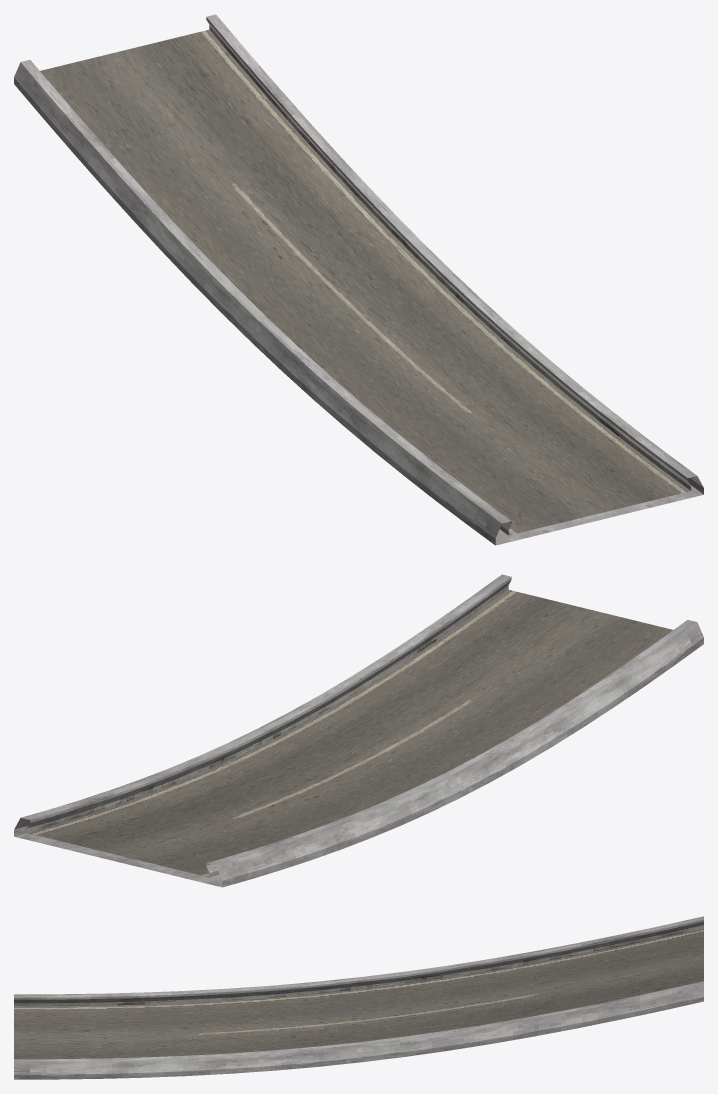
File: straight4.glb
3 views of the same model, one above another, from view 1: azimuth 30°, elevation 25°; view 2: azimuth 150°, elevation 25°; view 3: azimuth 270°, elevation 25° (orthographic). The views are drawn at different scales.
Visible parts, largest first — view 1: road-Straight-Flat-BiSlopeUp-Up2-Center-Size4; view 2: road-Straight-Flat-BiSlopeUp-Up2-Center-Size4; view 3: road-Straight-Flat-BiSlopeUp-Up2-Center-Size4.
Boxes of the visible parts, x1,y1,x2,y2 form: road-Straight-Flat-BiSlopeUp-Up2-Center-Size4: (14, 14, 703, 545); road-Straight-Flat-BiSlopeUp-Up2-Center-Size4: (14, 574, 703, 887); road-Straight-Flat-BiSlopeUp-Up2-Center-Size4: (14, 916, 703, 1079).
Bounding box in the file's own units: 1 × 0.5938 × 4.
Materials: 2 (2 with a texture image).
